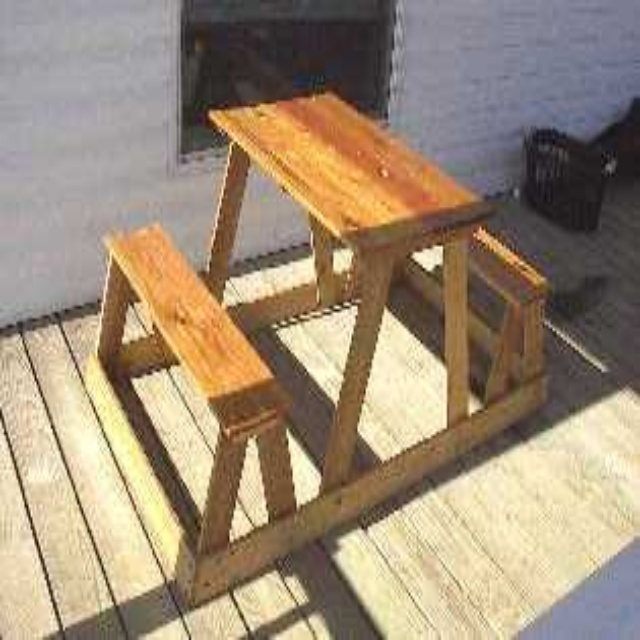obstacle: (75, 85, 563, 602)
